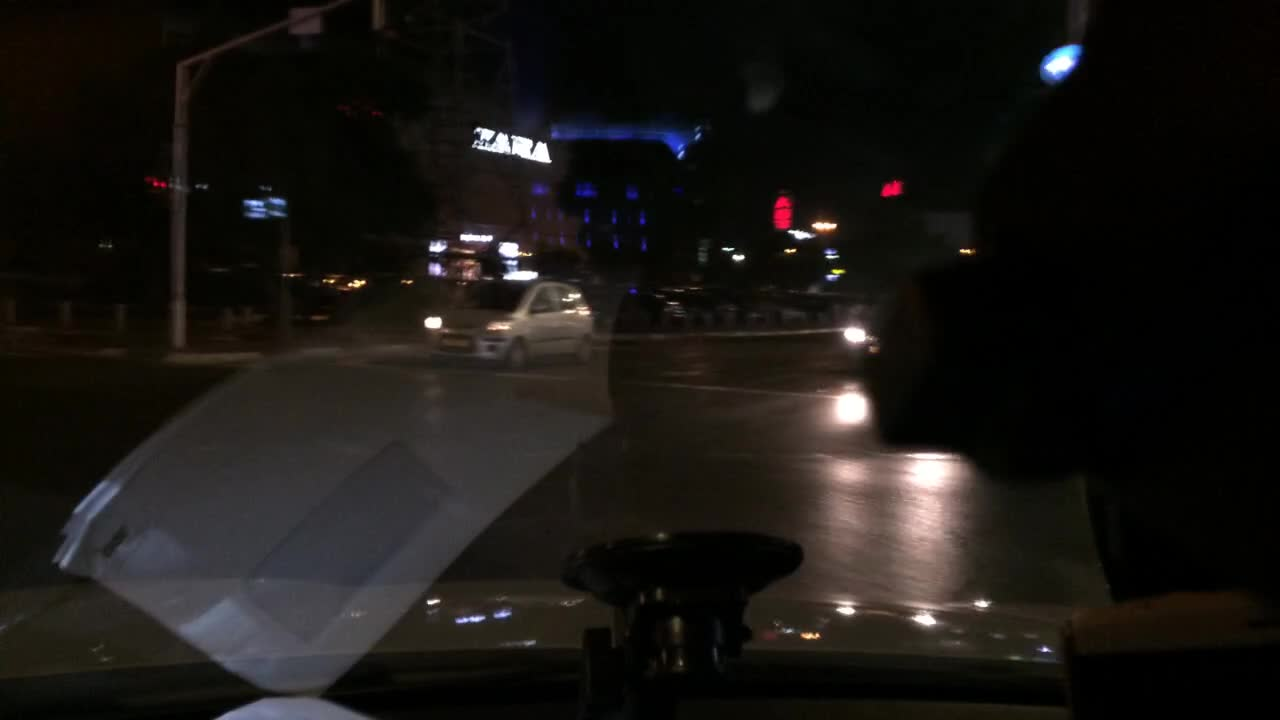car: (859, 244, 1036, 440), (423, 275, 596, 372), (840, 302, 896, 373), (299, 270, 371, 323)
